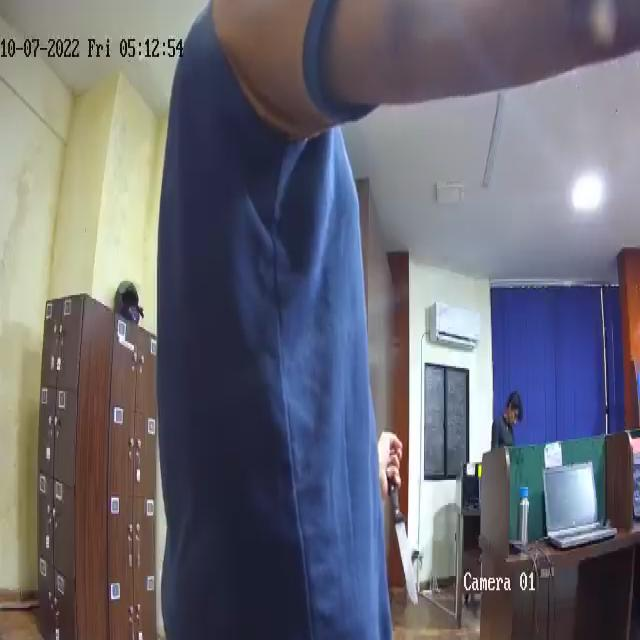Knife: (384, 482, 418, 599)
